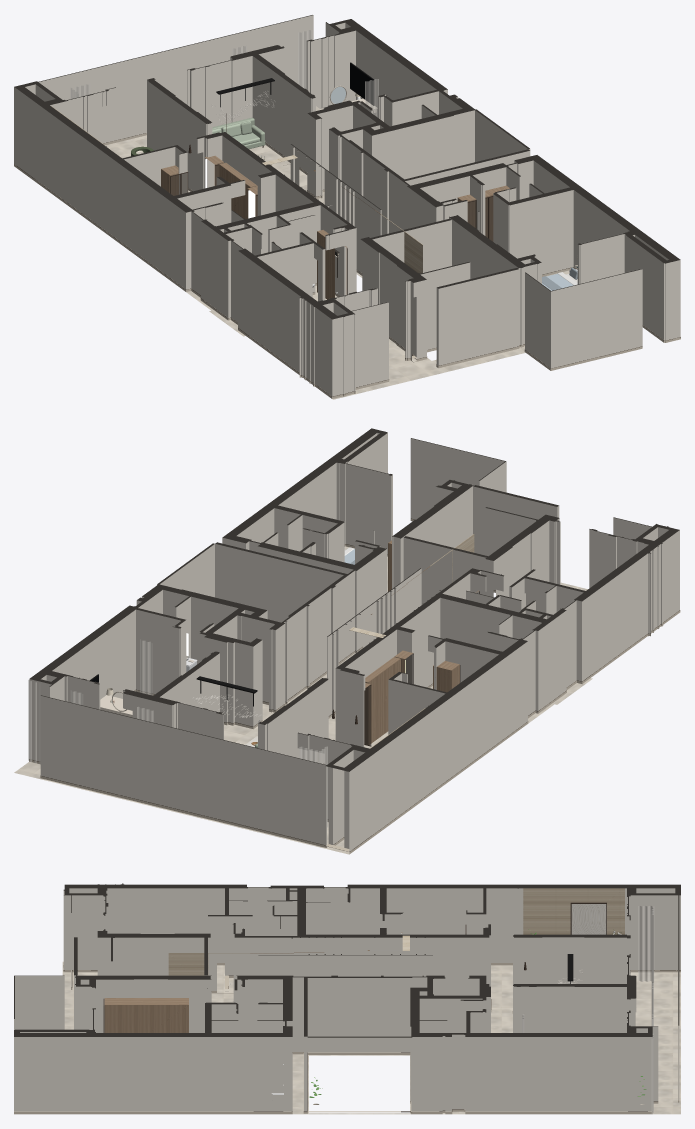
The model's file is ff_house_v21.glb.
3 renders of one model, top to bottom at view 1: azimuth 30°, elevation 25°; view 2: azimuth 150°, elevation 25°; view 3: azimuth 270°, elevation 25°, orthographic. The views are drawn at different scales.
Visible parts, largest first — view 1: MeshStandardMaterial_14, MeshStandardMaterial_15, MeshStandardMaterial_1, MeshStandardMaterial_7, MeshStandardMaterial_16, MeshStandardMaterial_104, MeshStandardMaterial_87, MeshStandardMaterial_5, MeshStandardMaterial_96; view 2: MeshStandardMaterial_14, MeshStandardMaterial_15, MeshStandardMaterial_7, MeshStandardMaterial_16, MeshStandardMaterial_1, MeshStandardMaterial_104, MeshStandardMaterial_87; view 3: MeshStandardMaterial_14, MeshStandardMaterial_15, MeshStandardMaterial_1, MeshStandardMaterial_5, MeshStandardMaterial_16, MeshStandardMaterial_7, MeshStandardMaterial_104, MeshStandardMaterial_91.
Part boxes in pixels (x1,y1,x2,y2): MeshStandardMaterial_14: (14, 15, 680, 396); MeshStandardMaterial_15: (14, 15, 680, 319); MeshStandardMaterial_1: (105, 135, 569, 399); MeshStandardMaterial_7: (161, 155, 509, 299); MeshStandardMaterial_16: (14, 133, 680, 398); MeshStandardMaterial_104: (70, 30, 378, 117); MeshStandardMaterial_87: (170, 165, 493, 294); MeshStandardMaterial_5: (51, 106, 422, 273); MeshStandardMaterial_96: (350, 63, 373, 104); MeshStandardMaterial_14: (29, 432, 679, 853); MeshStandardMaterial_15: (29, 428, 679, 771); MeshStandardMaterial_7: (364, 540, 478, 744); MeshStandardMaterial_16: (29, 518, 680, 853); MeshStandardMaterial_1: (14, 546, 680, 854); MeshStandardMaterial_104: (28, 639, 327, 827); MeshStandardMaterial_87: (364, 592, 479, 745); MeshStandardMaterial_14: (14, 887, 680, 1111); MeshStandardMaterial_15: (14, 883, 680, 1037); MeshStandardMaterial_1: (62, 961, 680, 1114); MeshStandardMaterial_5: (168, 888, 624, 975); MeshStandardMaterial_16: (14, 963, 680, 1114); MeshStandardMaterial_7: (104, 932, 402, 1032); MeshStandardMaterial_104: (522, 905, 654, 1113); MeshStandardMaterial_91: (571, 904, 606, 934).
Size of the model in its own units: 12.9 by 3.02 by 23.57.
Materials: 103 (16 with a texture image).
